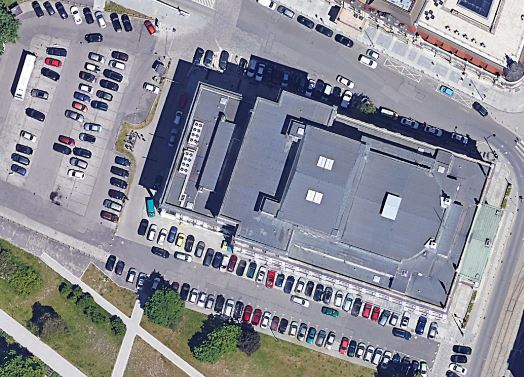block of flats: (149, 74, 498, 327)
